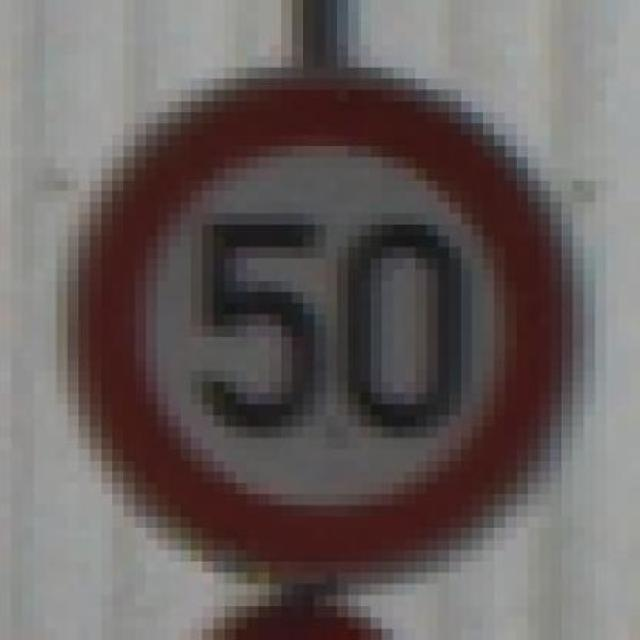forb_speed_over_50: (71, 76, 552, 576)
